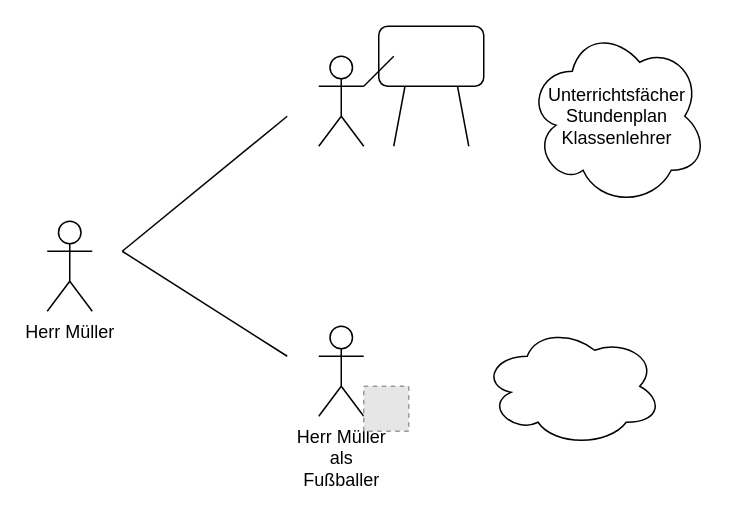
Some shapes in this 734 by 518 pixel diagram are drawn without their labels. Grey dashed boxes stand in for pictures. The shapes that lost their labels are listed below. From the top down, each one's box as (x1, y1, x2, y2) in pixels, then its label:
(317, 55, 364, 146): Herr Müller als Lehrer
(481, 325, 662, 446): Position Torquote Schnelligkeit
